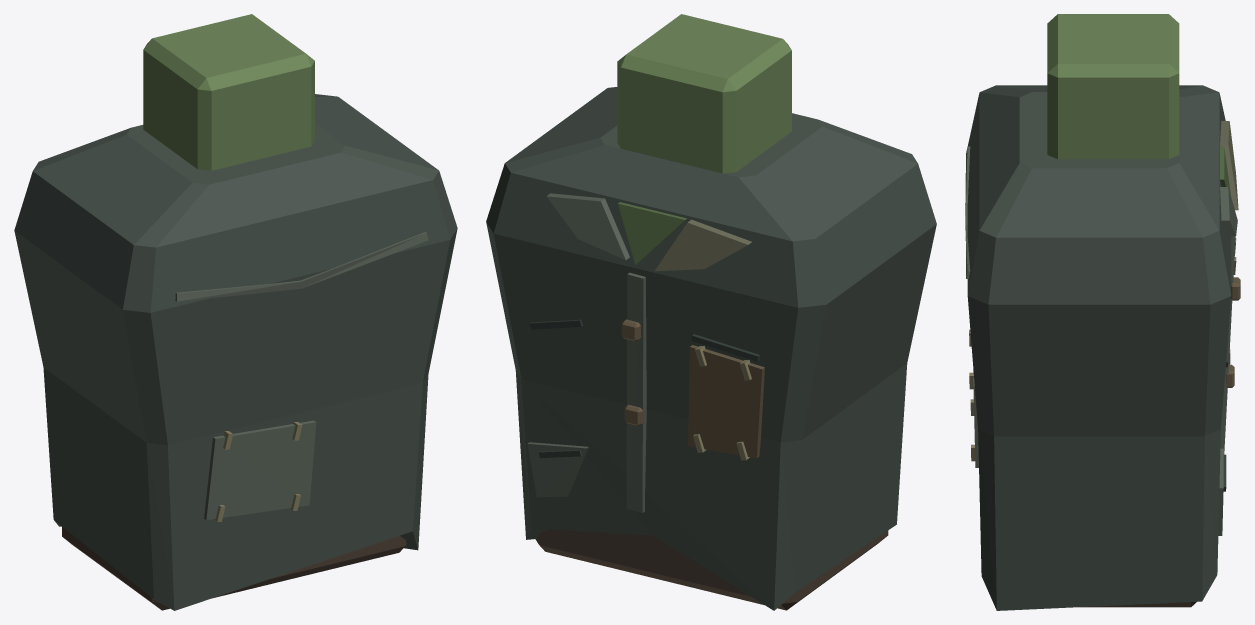
The model's file is Body.glb.
3 renders of one model, left to right at view 1: azimuth 30°, elevation 25°; view 2: azimuth 150°, elevation 25°; view 3: azimuth 270°, elevation 25°, orthographic. The views are drawn at different scales.
Visible parts, largest first — view 1: Sculpture; view 2: Sculpture; view 3: Sculpture.
Part boxes in pixels (bbox=[...]): Sculpture: bbox=[14, 14, 457, 610]; Sculpture: bbox=[486, 14, 936, 610]; Sculpture: bbox=[965, 14, 1240, 610].
Size of the model in its own units: 0.57 by 0.81 by 0.3972.
